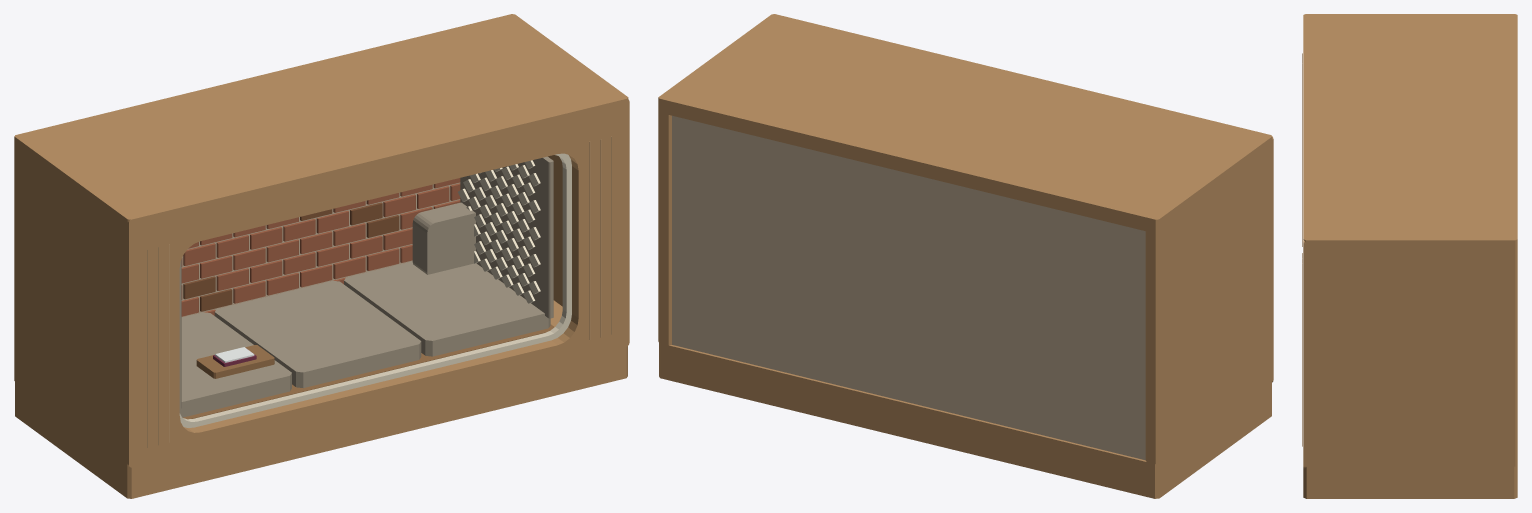
File: gh_worklounge_pod_v01.glb
The picture shows the model from 3 angles, left to right: view 1: azimuth 30°, elevation 25°; view 2: azimuth 150°, elevation 25°; view 3: azimuth 270°, elevation 25°; orthographic projection. The views are drawn at different scales.
Visible parts, largest first — view 1: Full depth oak lounge enclosure palette, Brick niche and tailored seating fabric, Brick niche and tailored seating palette, Full depth oak lounge enclosure fabric; view 2: Full depth oak lounge enclosure palette, Brick niche and tailored seating palette; view 3: Full depth oak lounge enclosure palette.
Part boxes in pixels (x1=…): Full depth oak lounge enclosure palette: x1=14, y1=14, x2=629, y2=498; Brick niche and tailored seating fabric: x1=179, y1=156, x2=553, y2=417; Brick niche and tailored seating palette: x1=181, y1=178, x2=554, y2=419; Full depth oak lounge enclosure fabric: x1=179, y1=153, x2=571, y2=427; Full depth oak lounge enclosure palette: x1=658, y1=14, x2=1273, y2=498; Brick niche and tailored seating palette: x1=672, y1=115, x2=1145, y2=460; Full depth oak lounge enclosure palette: x1=1302, y1=14, x2=1517, y2=498.
Size of the model in its own units: 6 by 3.2 by 2.41.
3 materials, 3 textured.
